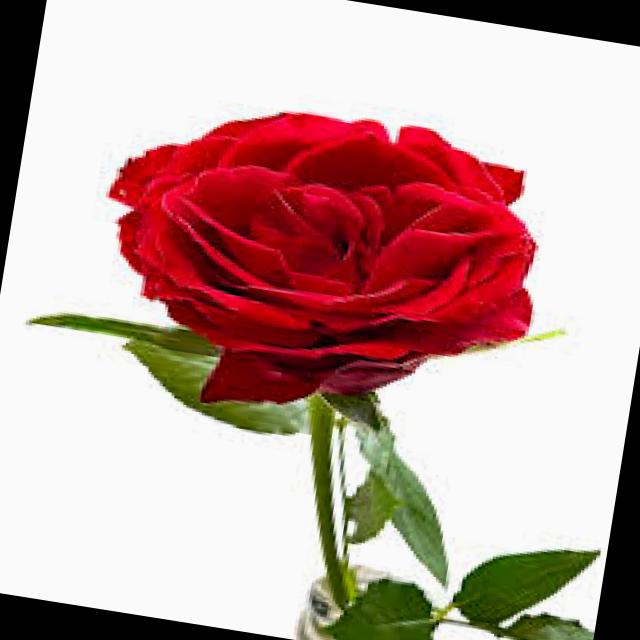rose: (63, 32, 603, 534)
